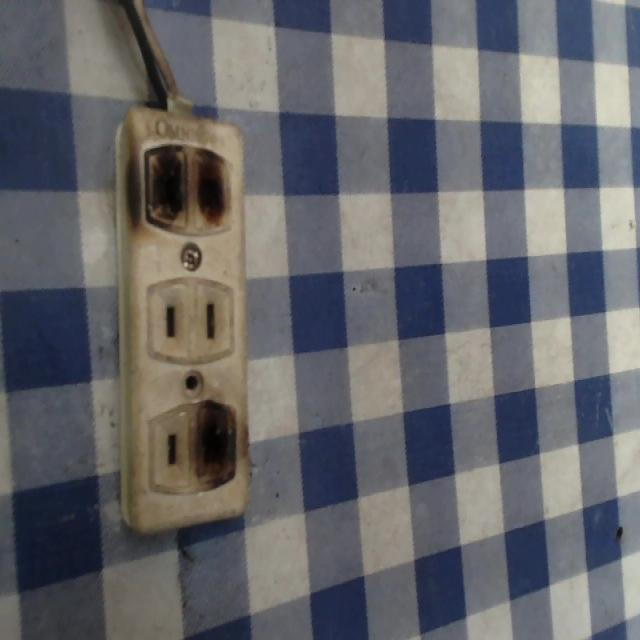-: (119, 126, 238, 246), (186, 391, 250, 501)
